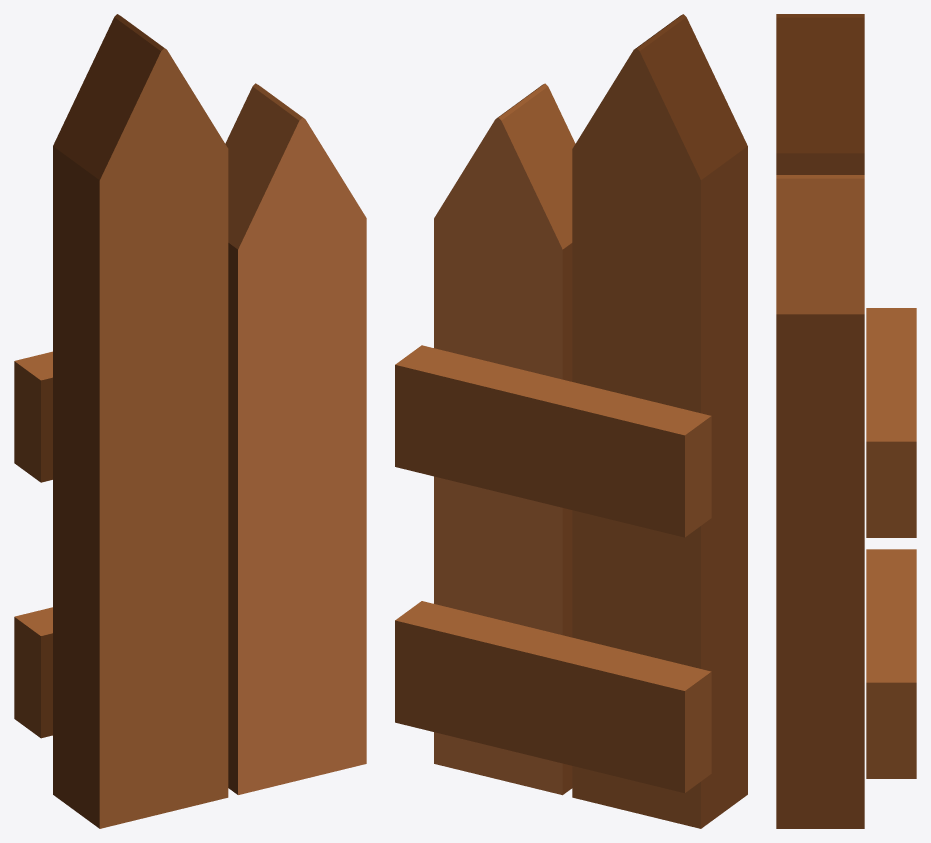
Rendered from fence S2-1.fbx.
3 views of the same model, side by side, from view 1: azimuth 30°, elevation 25°; view 2: azimuth 150°, elevation 25°; view 3: azimuth 270°, elevation 25° (orthographic). The views are drawn at different scales.
Parts seen in each view (by area): view 1: Cube.002; view 2: Cube.002; view 3: Cube.002.
Part boxes in pixels (box(x1,y1,x2,y2)): Cube.002: box(14, 14, 366, 828); Cube.002: box(395, 14, 747, 828); Cube.002: box(776, 14, 916, 828).
Size of the model in its own units: 189 by 476 by 83.77.
1 material, 1 textured.
